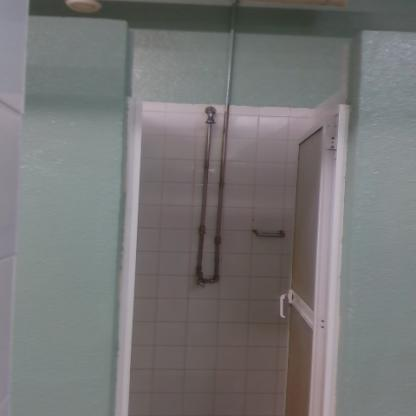closed: (122, 82, 356, 416)
